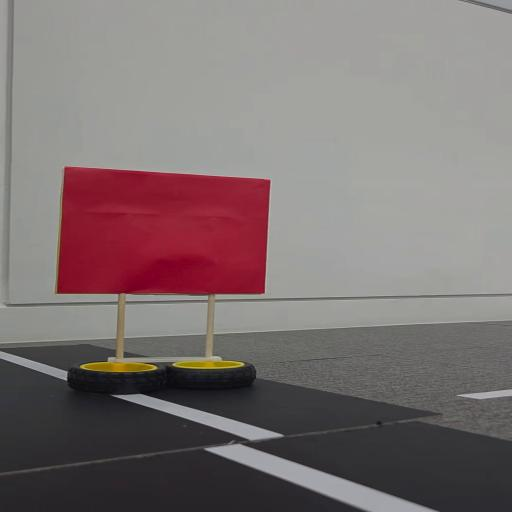Sign_A: (46, 164, 288, 404)
